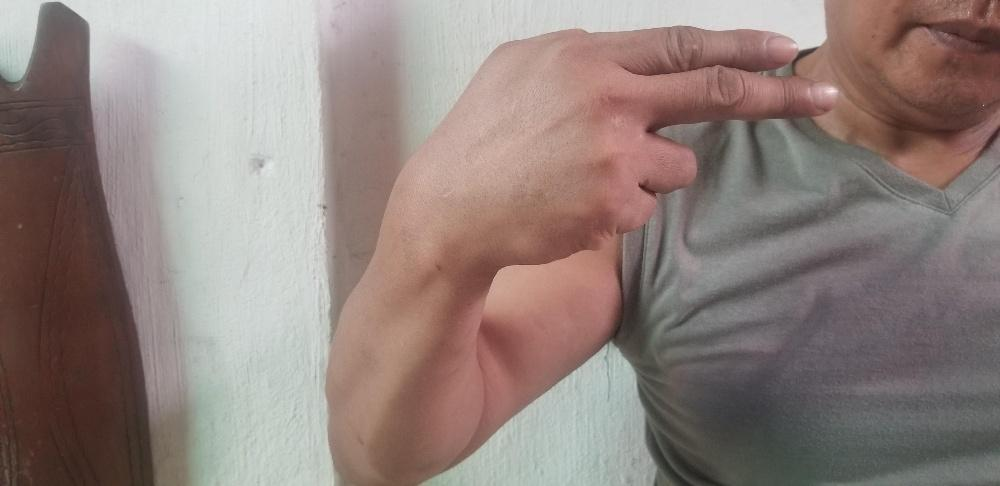h: (477, 22, 837, 264)
